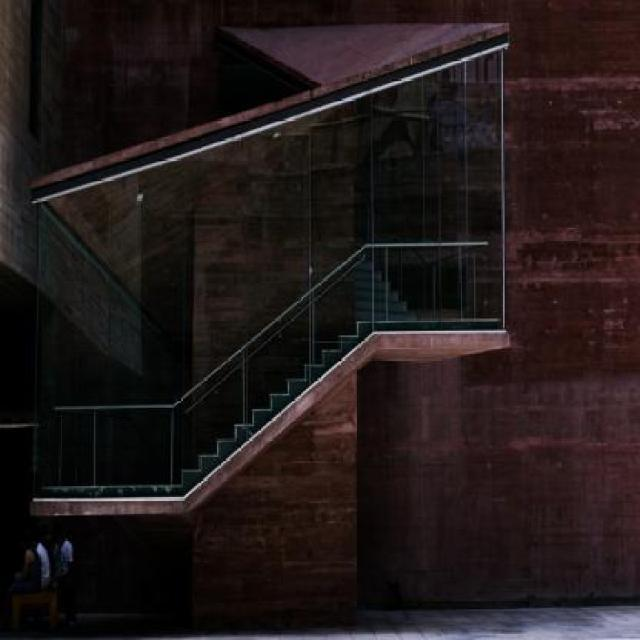stair: (180, 318, 360, 484), (356, 245, 418, 328)
